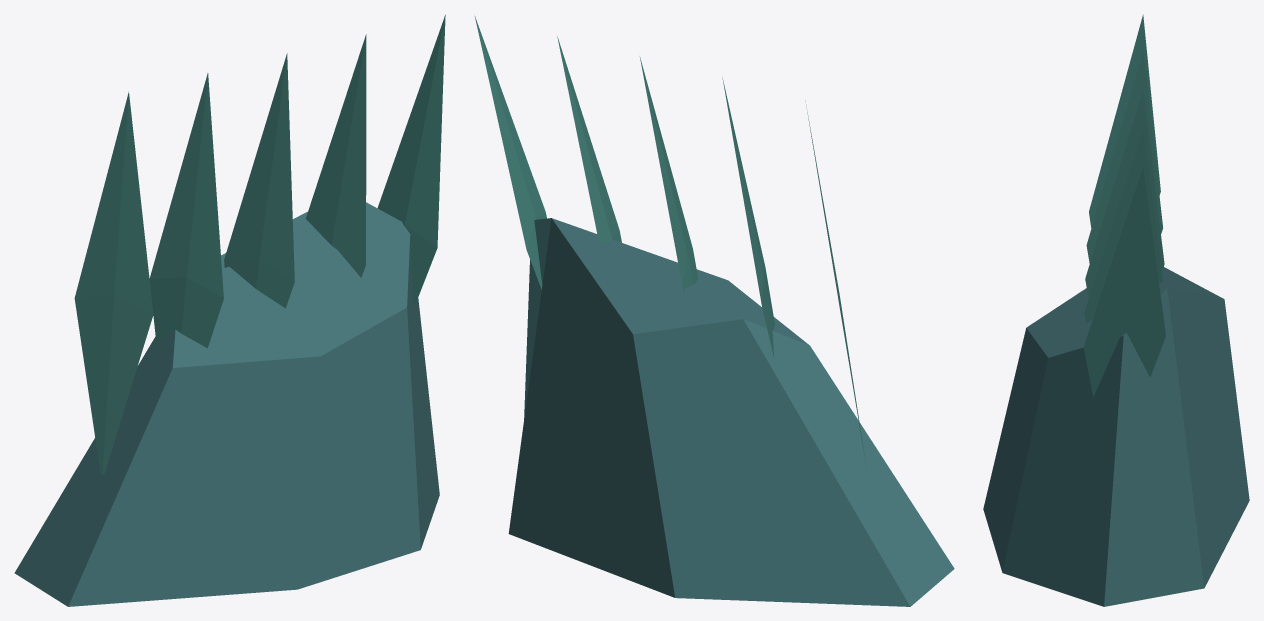
Rendered from map-boundaries-v5__tide_12.glb.
3 views of the same model, side by side, from view 1: azimuth 30°, elevation 25°; view 2: azimuth 150°, elevation 25°; view 3: azimuth 270°, elevation 25° (orthographic). The views are drawn at different scales.
Parts seen in each view (by area): view 1: tide_12; view 2: tide_12; view 3: tide_12.
Part boxes in pixels (left/top/right/bottom): tide_12: left=14, top=14, right=445, bottom=606; tide_12: left=474, top=16, right=954, bottom=606; tide_12: left=983, top=14, right=1249, bottom=606.
Bounding box in the file's own units: 1.45 × 1.5 × 0.7993.
